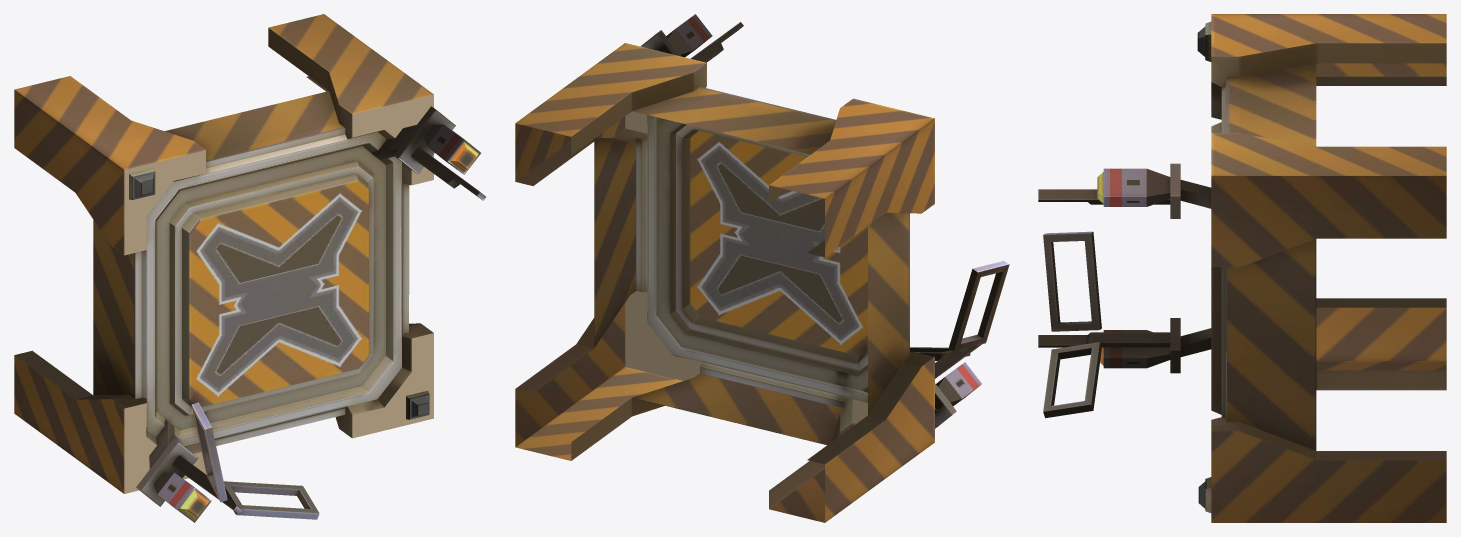
File: trap_037_airsup.glb
3 renders of one model, left to right at view 1: azimuth 30°, elevation 25°; view 2: azimuth 150°, elevation 25°; view 3: azimuth 270°, elevation 25°, orthographic. The views are drawn at different scales.
Visible parts, largest first — view 1: S_037_airsup; view 2: S_037_airsup; view 3: S_037_airsup.
Boxes of the visible parts, x1,y1,x2,y2 form: S_037_airsup: [14, 14, 485, 522]; S_037_airsup: [515, 14, 1009, 522]; S_037_airsup: [1038, 14, 1446, 522].
Size of the model in its own units: 1.03 by 1.03 by 1.08.
Materials: 1 (1 with a texture image).
